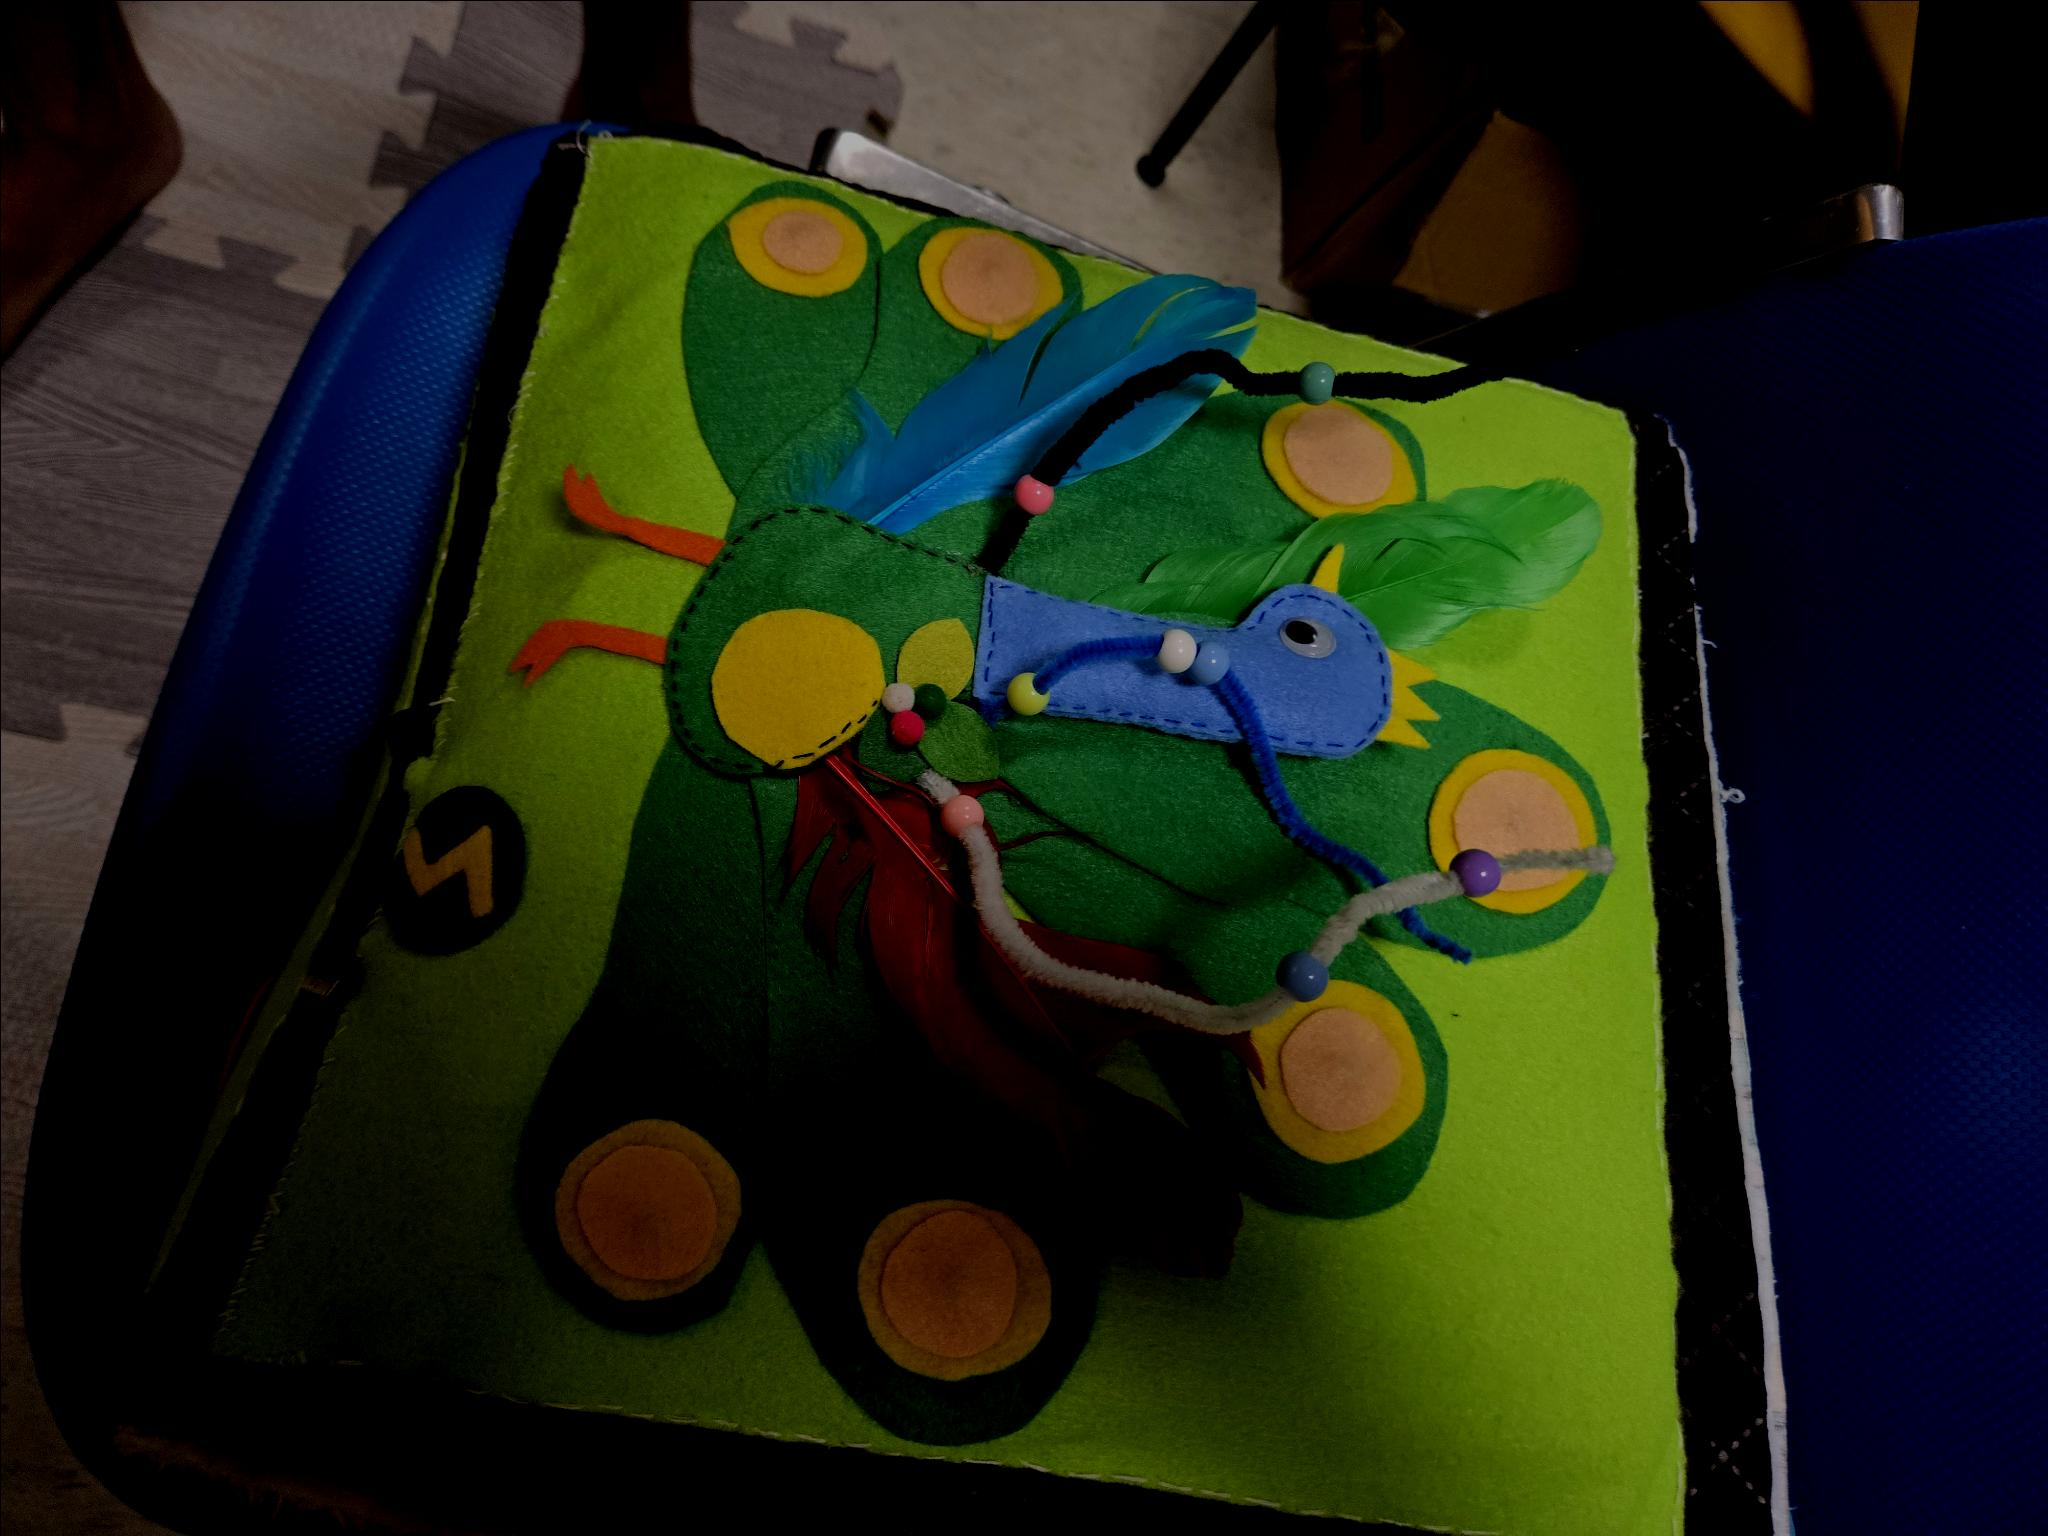bead: (998, 666, 1063, 734), (1272, 937, 1337, 1002), (932, 789, 1000, 839), (1450, 842, 1501, 905), (1013, 466, 1058, 531), (1150, 620, 1198, 674), (1295, 353, 1338, 410), (1192, 641, 1235, 697)
